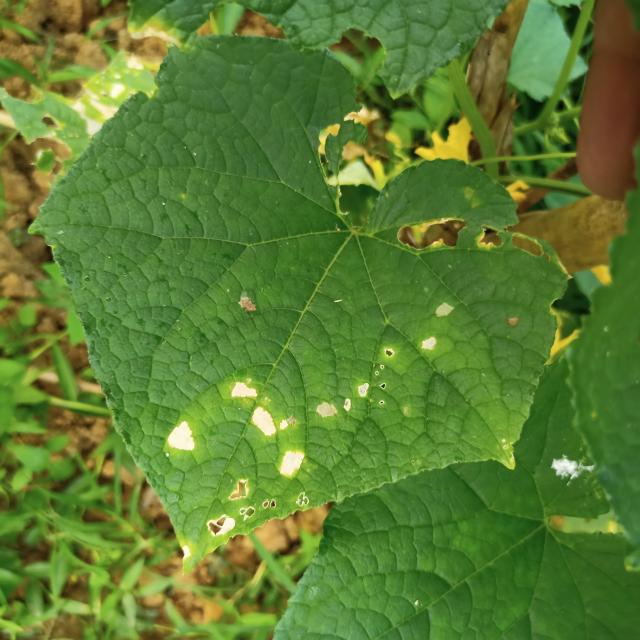disease_cucumber: (166, 286, 473, 560)
